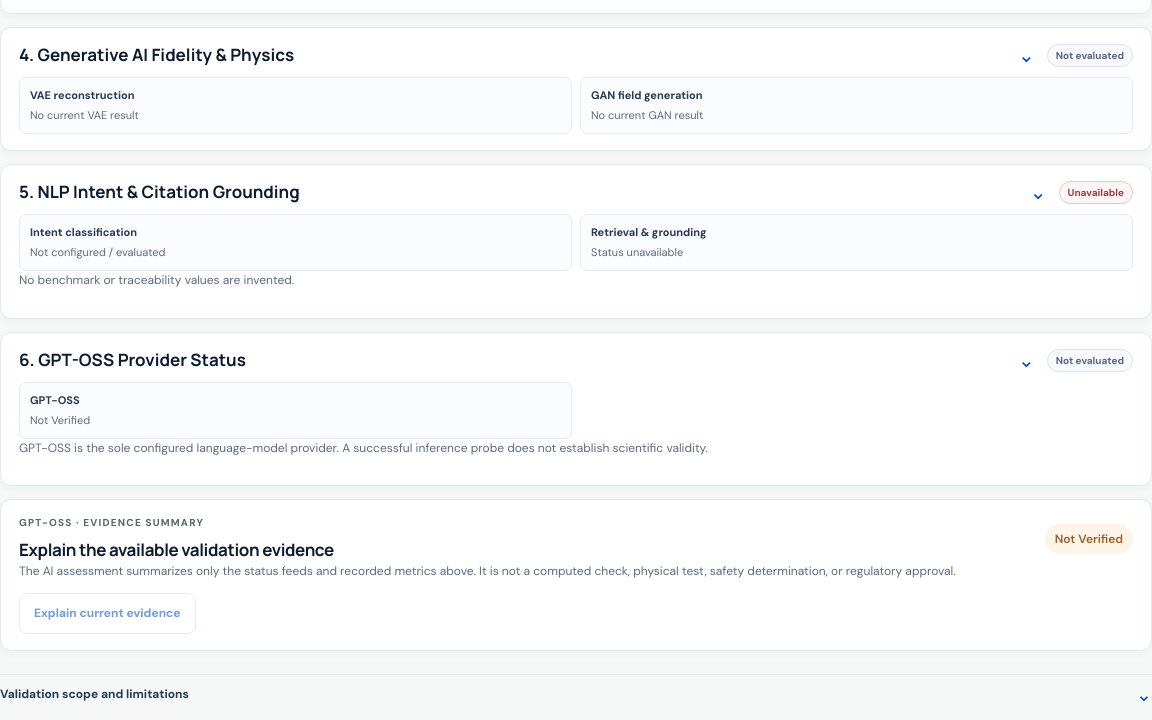
Test: EvaluationValidation › reports model reachability separately from measured inference tests
(page scrolled)
Click the button "6. GPT-OSS Provider Status ⌄" at (132, 359), box [19, 349, 1035, 372]
(page scrolled)
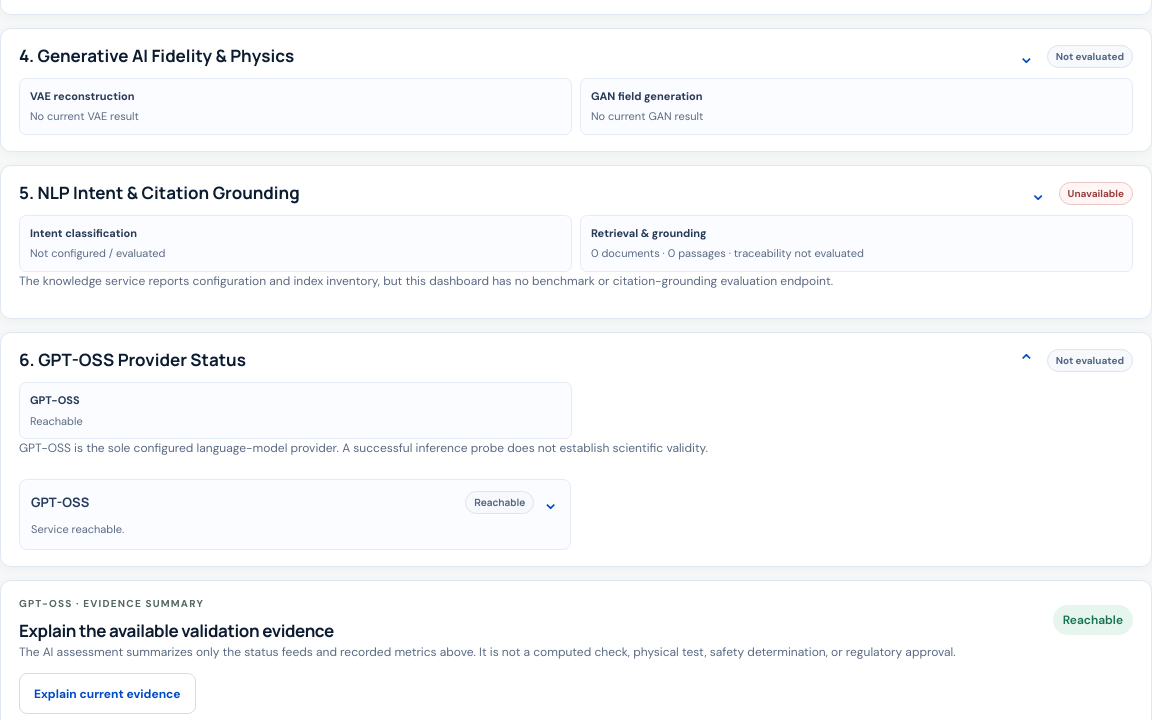
Click the button with aria-label "Toggle GPT-OSS details" at (60, 502), box [31, 491, 559, 514]
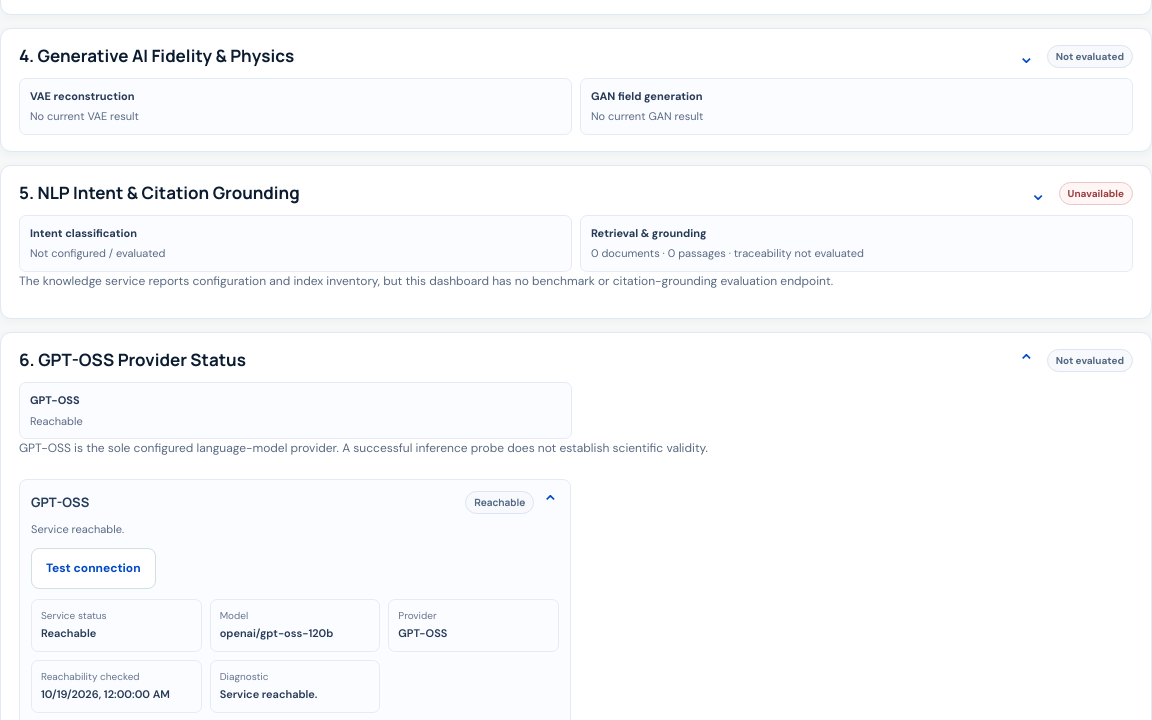
Click the button "Test connection" at (93, 568), box [31, 548, 156, 589]
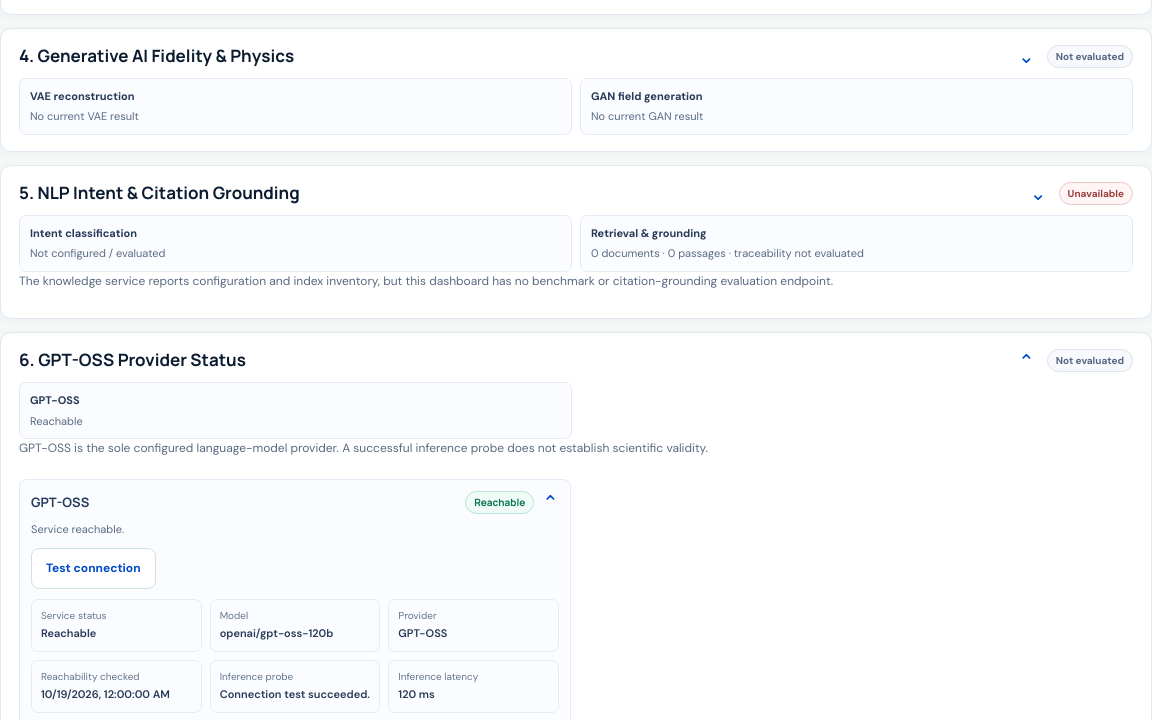
Expected: the text "120 ms" is shown, [398, 687, 435, 701]
